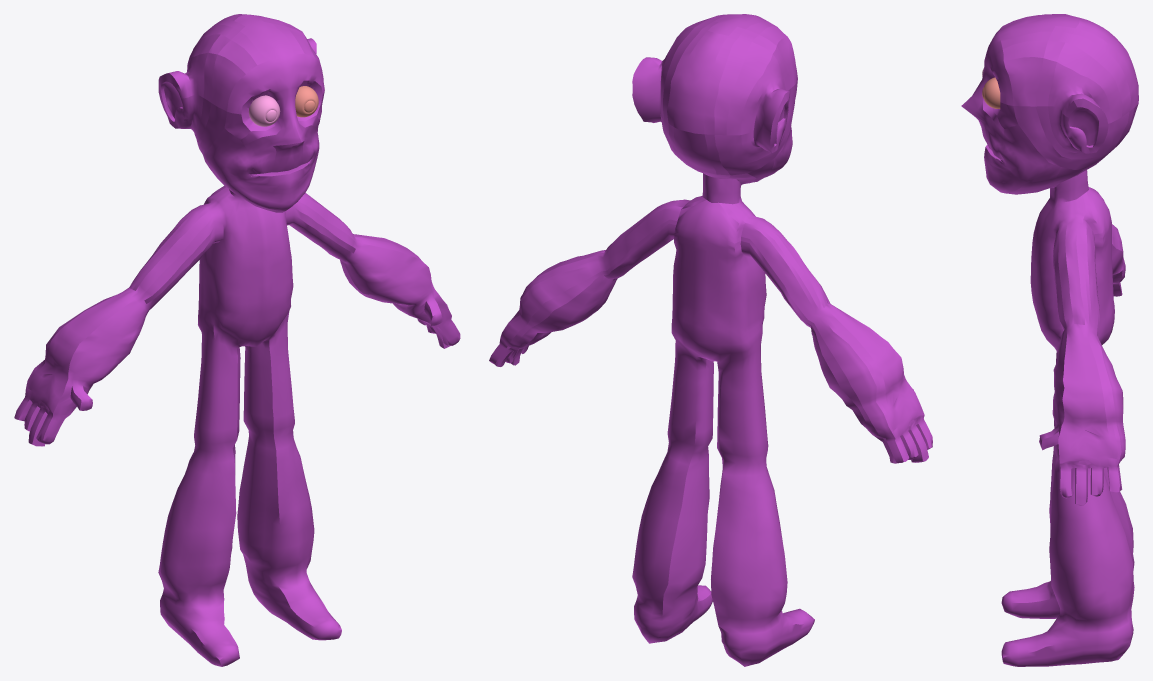
3 views of the same model, side by side, from view 1: azimuth 30°, elevation 25°; view 2: azimuth 150°, elevation 25°; view 3: azimuth 270°, elevation 25° (orthographic).
Parts seen in each view (by area): view 1: split_parent_2, Object_6; view 2: split_parent_2; view 3: split_parent_2, Object_4.
Part boxes in pixels (x1=…): split_parent_2: x1=14, y1=14, x2=460, y2=666; Object_6: x1=248, y1=95, x2=280, y2=126; split_parent_2: x1=489, y1=14, x2=932, y2=666; split_parent_2: x1=961, y1=14, x2=1138, y2=666; Object_4: x1=982, y1=77, x2=1000, y2=108.
Bounding box in the file's own units: 0.7206 × 1 × 0.2597.
